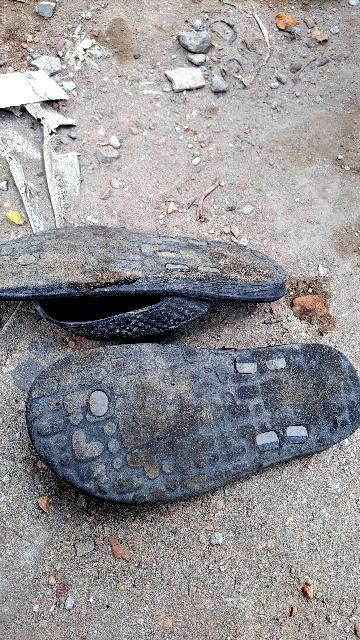sandal: (18, 312, 360, 520), (0, 231, 313, 313)
